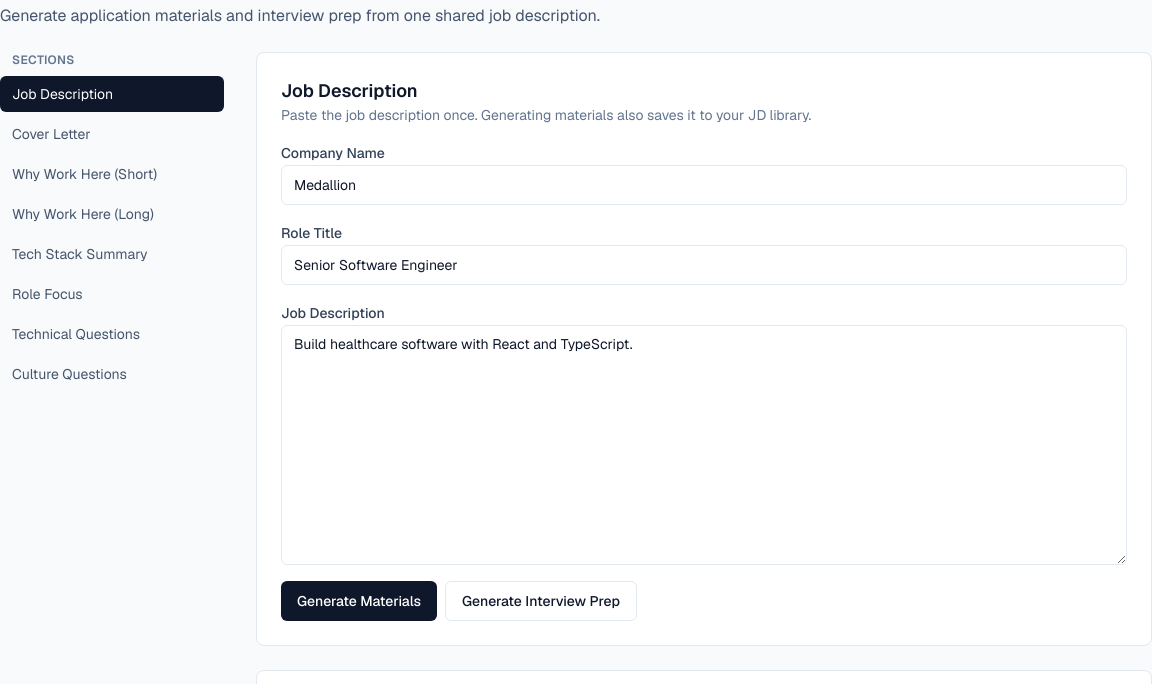
Test: ApplicationWorkspace › generates interview prep from the shared job description draft
expect the text box showing "Build healthcare software with React and TypeScript." is shown: met, box top-left (281, 325), bottom-right (1127, 565)
Click the button "Generate Interview Prep" at point(541, 601), box top-left (445, 581), bottom-right (637, 621)
(page scrolled)
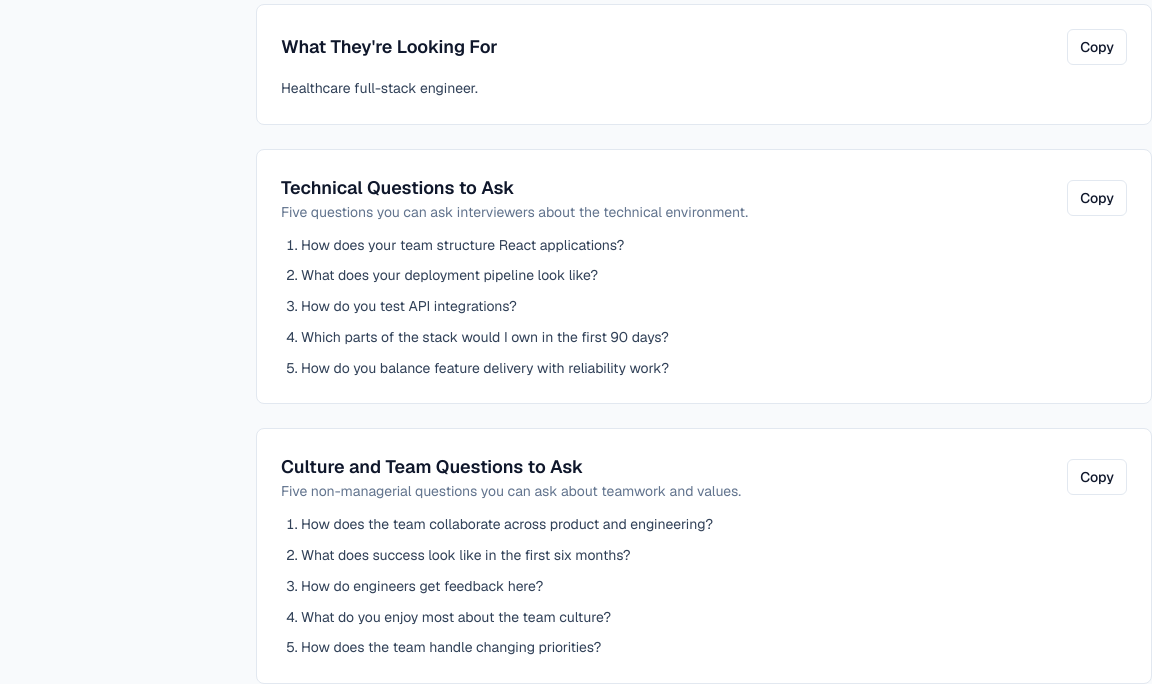
expect the text "Healthcare full-stack engineer." is shown: met, box top-left (281, 79), bottom-right (478, 97)
expect the list item "How does your team structure React applications?" is shown: met, box top-left (301, 236), bottom-right (624, 254)
expect the list item "How does the team collaborate across product and engineering?" is shown: met, box top-left (301, 515), bottom-right (713, 533)
